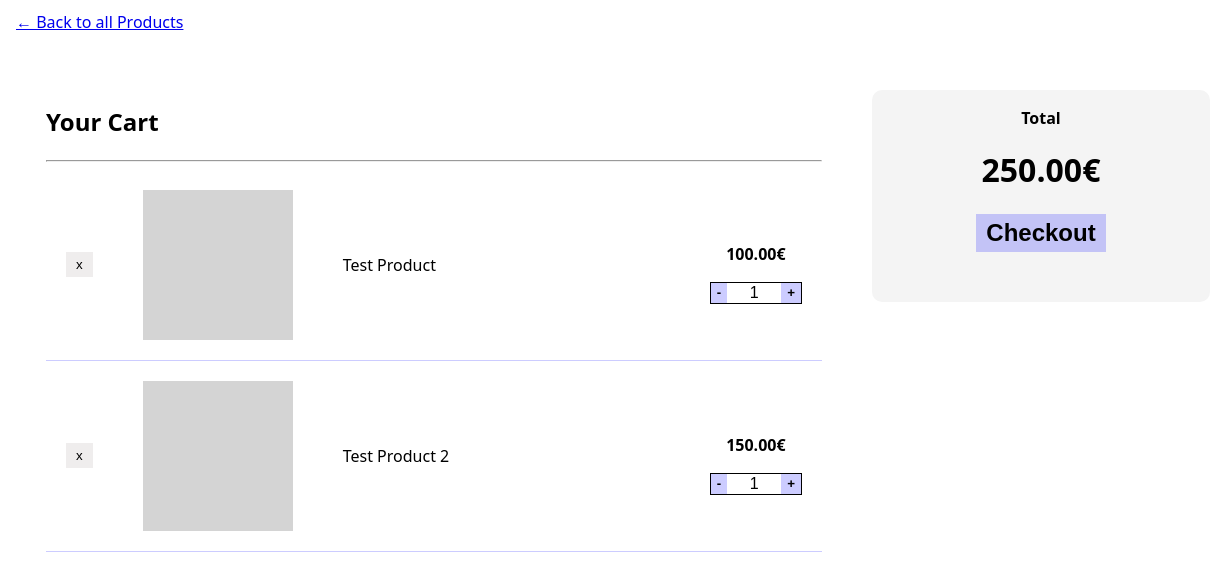
test behaviour of quantity changes › deletes element (product1) and updates total - multiple products
The image size is (1227, 569).
expect the text with test id "totalAmount" reads "250.00€": met, box [982, 148, 1100, 191]
Click the button "x" in the row of "100.00€".
click(79, 265)  # box [66, 252, 93, 277]
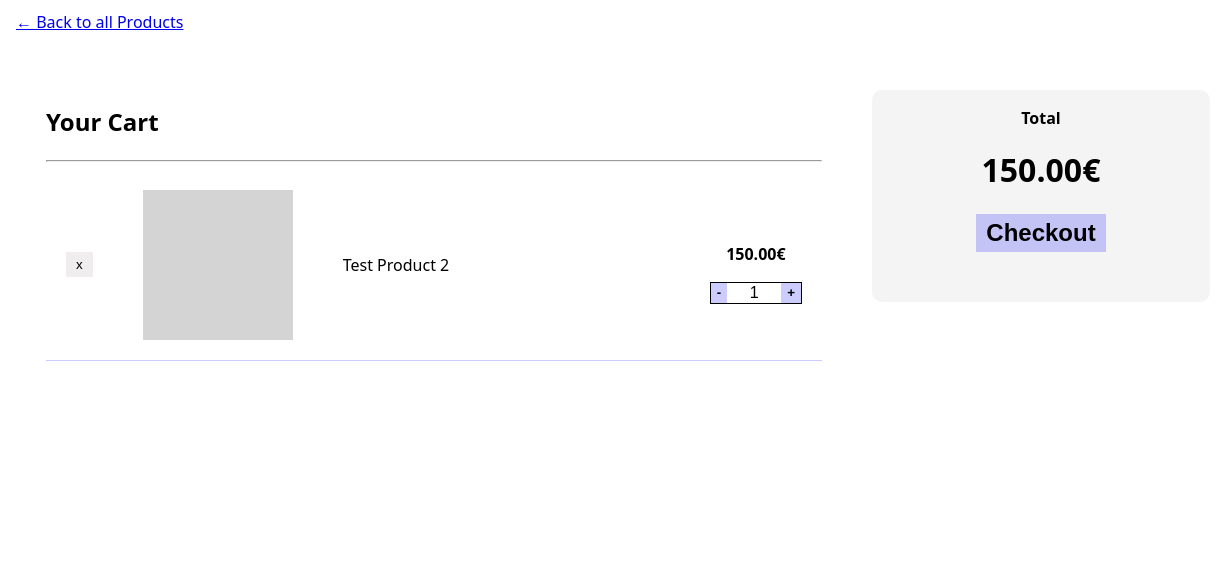
expect the text with test id "totalAmount" reads "150.00€": met, box [982, 148, 1100, 191]
